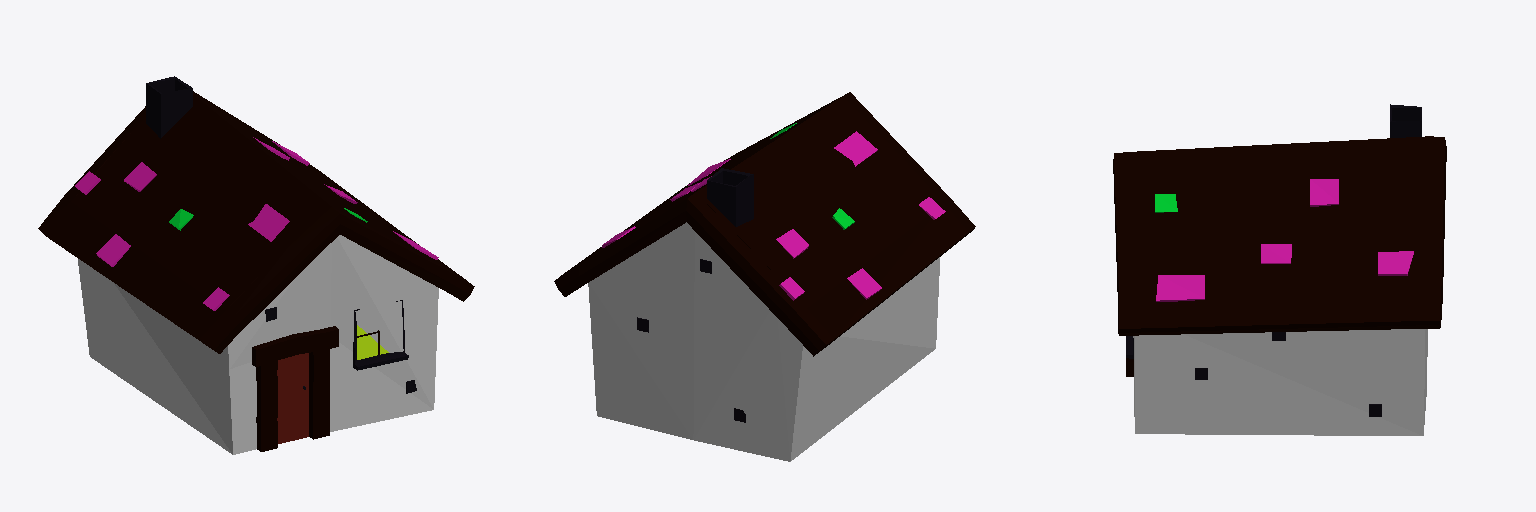
The model's file is house.obj.
3 renders of one model, left to right at view 1: azimuth 30°, elevation 25°; view 2: azimuth 150°, elevation 25°; view 3: azimuth 270°, elevation 25°, orthographic.
Parts seen in each view (by area): view 1: Maison_Cube.001, Cheminée_Cube.018, Poutre1_Cube.002, Poutre2_Cube.003, Poutre3_Cube.004, Fenetre_Cube.016, Tuile.003_Cube.007, Tuile.002_Cube.006, Tuile.004_Cube.008; view 2: Maison_Cube.001, Cheminée_Cube.018, Tuile.003_Cube.007, Tuile.002_Cube.006; view 3: Maison_Cube.001, Tuile.008_Cube.012, Cheminée_Cube.018, Tuile.007_Cube.011, Tuile.009_Cube.013, Tuile.010_Cube.014.
Part boxes in pixels (bbox=[...]): Maison_Cube.001: bbox=[38, 91, 474, 454]; Cheminée_Cube.018: bbox=[146, 76, 192, 138]; Poutre1_Cube.002: bbox=[256, 360, 277, 451]; Poutre2_Cube.003: bbox=[309, 348, 329, 439]; Poutre3_Cube.004: bbox=[252, 326, 338, 366]; Fenetre_Cube.016: bbox=[353, 300, 408, 370]; Tuile.003_Cube.007: bbox=[248, 204, 289, 241]; Tuile.002_Cube.006: bbox=[96, 234, 130, 266]; Tuile.004_Cube.008: bbox=[124, 162, 156, 191]; Maison_Cube.001: bbox=[554, 92, 975, 461]; Cheminée_Cube.018: bbox=[707, 168, 753, 226]; Tuile.003_Cube.007: bbox=[834, 131, 877, 166]; Tuile.002_Cube.006: bbox=[847, 268, 881, 299]; Maison_Cube.001: bbox=[1113, 136, 1446, 435]; Tuile.008_Cube.012: bbox=[1156, 275, 1204, 301]; Cheminée_Cube.018: bbox=[1390, 104, 1421, 137]; Tuile.007_Cube.011: bbox=[1378, 251, 1413, 275]; Tuile.009_Cube.013: bbox=[1310, 179, 1338, 206]; Tuile.010_Cube.014: bbox=[1261, 244, 1291, 263].
Bounding box in the file's own units: 1.42 × 1.29 × 1.48.